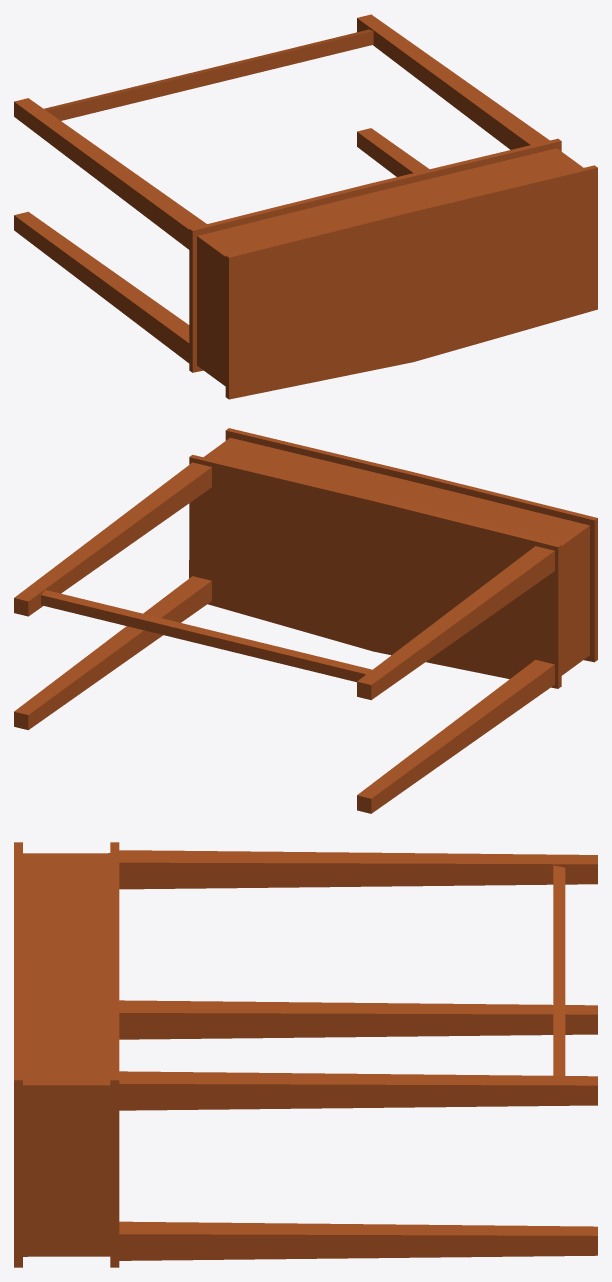
File: EndtablemeshSideTable_203_0.obj
3 renders of one model, top to bottom at view 1: azimuth 30°, elevation 25°; view 2: azimuth 150°, elevation 25°; view 3: azimuth 270°, elevation 25°, orthographic. The views are drawn at different scales.
Visible parts, largest first — view 1: SideTable_203; view 2: SideTable_203; view 3: SideTable_203.
Part boxes in pixels (left/top/right/bottom): SideTable_203: left=14, top=14, right=597, bottom=399; SideTable_203: left=14, top=428, right=597, bottom=813; SideTable_203: left=14, top=842, right=597, bottom=1267.
Size of the model in its own units: 0.8359 by 0.3256 by 0.8665.
